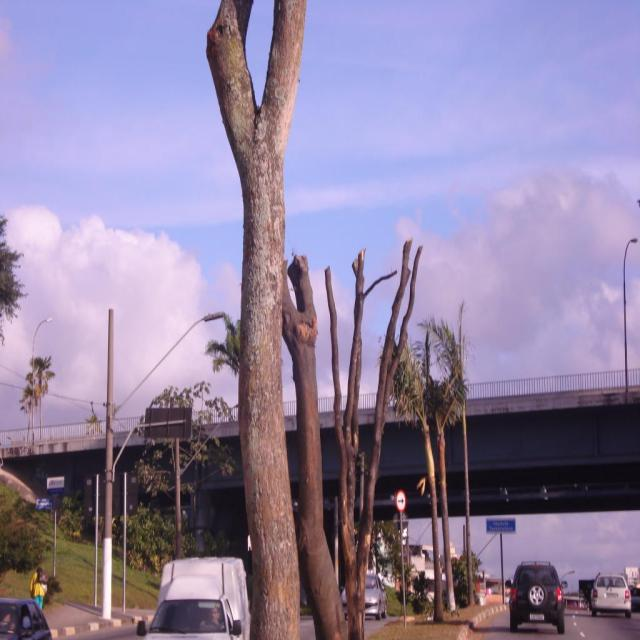car: (516, 567, 573, 636), (341, 570, 388, 618), (0, 595, 50, 638), (587, 570, 632, 612)
